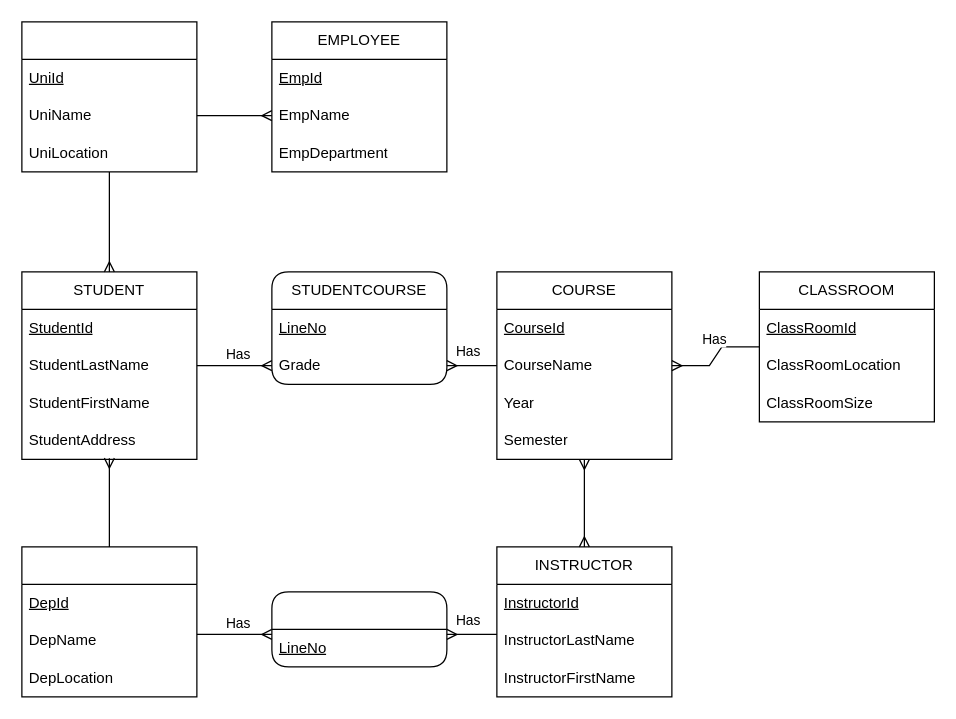
The diagram is 956 pixels wide and 719 high, and some of its shapes have lost their labels. The box of each missing label's shape, as (x1, y1, x2, y2) in pixels:
DEPARTMENT: (21, 546, 197, 697)
INSTRUCTORDEPT: (271, 591, 447, 667)
UNIVERSITY: (21, 21, 197, 172)
